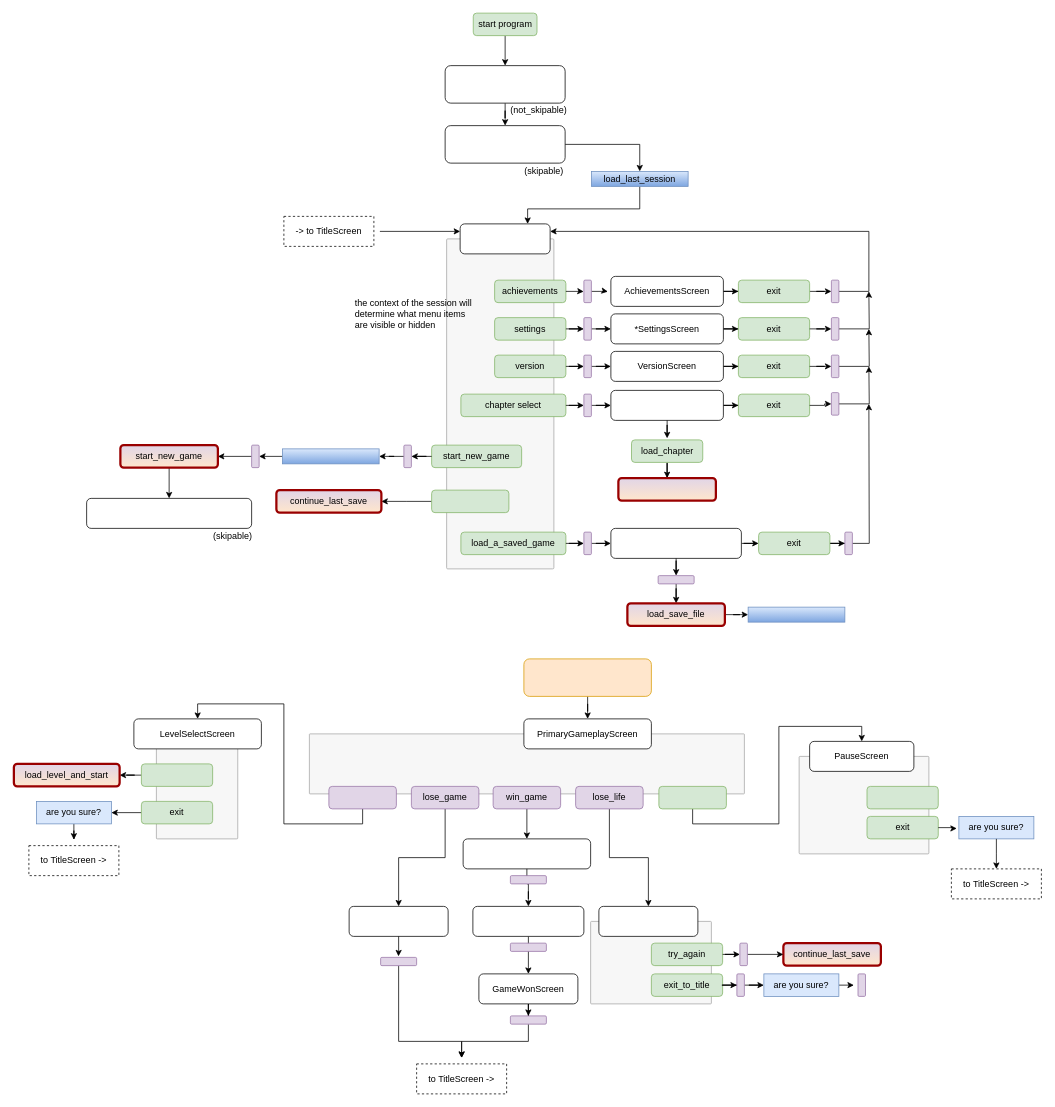
This 1055x1107 diagram has some shape labels left out. The shapes that lost their labels are listed below. From the top down, each one's box as (x1, y1, x2, y2) in pixels, then its label:
(444, 65, 565, 103): IntroLogosScreen
(444, 125, 565, 163): IntroStoryboardScreen
(459, 223, 550, 254): TitleScreen
(610, 390, 723, 420): ChapterSelectScreen
(282, 448, 379, 464): start_new_session
(431, 489, 509, 513): continue
(617, 477, 717, 501): start_chapter
(86, 498, 252, 528): NewGameIntroStoryboardScreen
(610, 528, 741, 558): *LoadASavedGameScreen
(747, 606, 845, 622): load_session
(523, 658, 651, 696): load_game_and_state
(141, 763, 213, 786): select_level
(328, 786, 396, 809): beat_level
(658, 786, 726, 809): pause_game
(866, 786, 938, 809): unpause
(462, 838, 591, 869): OutroStoryboardScreen
(348, 906, 448, 936): GameOverScreen
(472, 906, 584, 936): RollingCreditsScreen
(598, 906, 698, 936): YouFailedScreen
